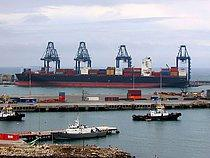Ship: (13, 40, 196, 92)
